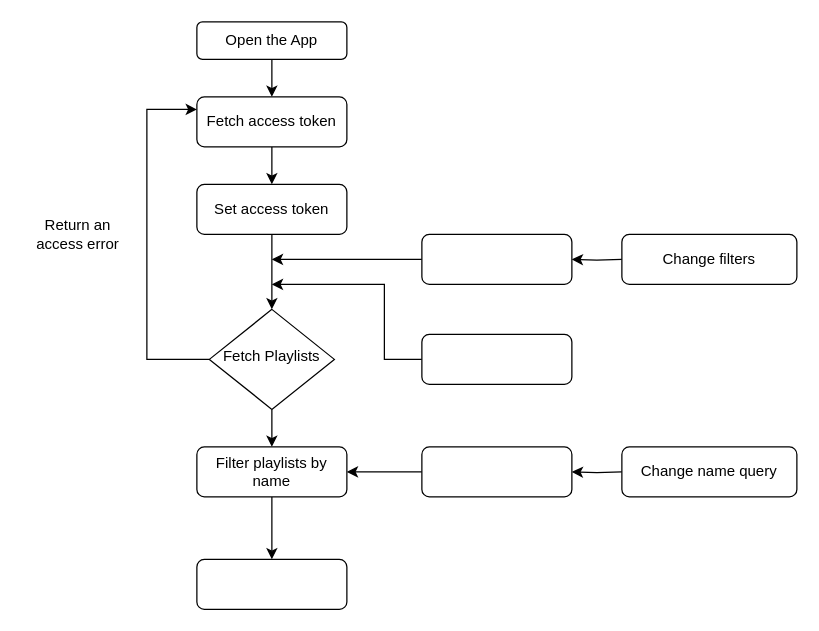
Some shapes in this 819 by 631 pixel diagram are drawn without their labels. The shapes that lost their labels are listed below. From the top down, each one's box as (x1, y1, x2, y2) in pixels, then its label:
(421, 233, 572, 284): Set filters
(421, 333, 572, 384): Refresh every 30 seconds
(421, 446, 572, 497): Set name query
(196, 558, 347, 609): Set playlists
